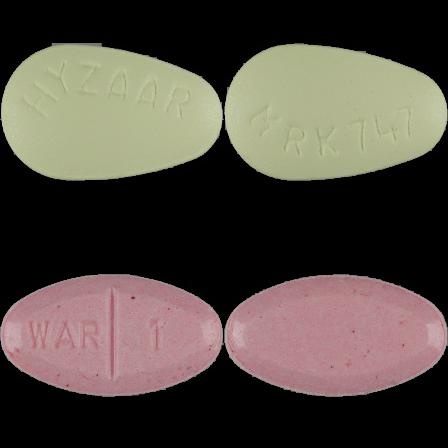54868-4341: (0, 0, 224, 224)
